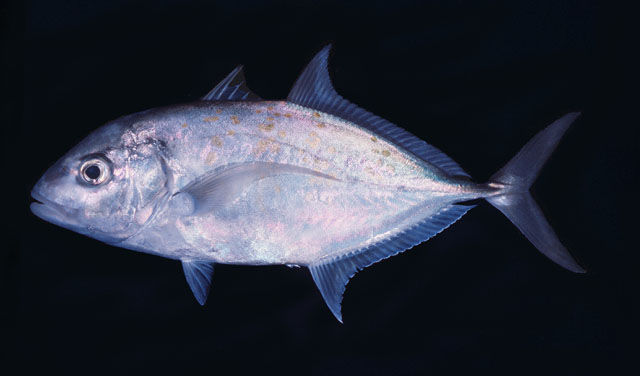fish: (31, 45, 588, 324)
